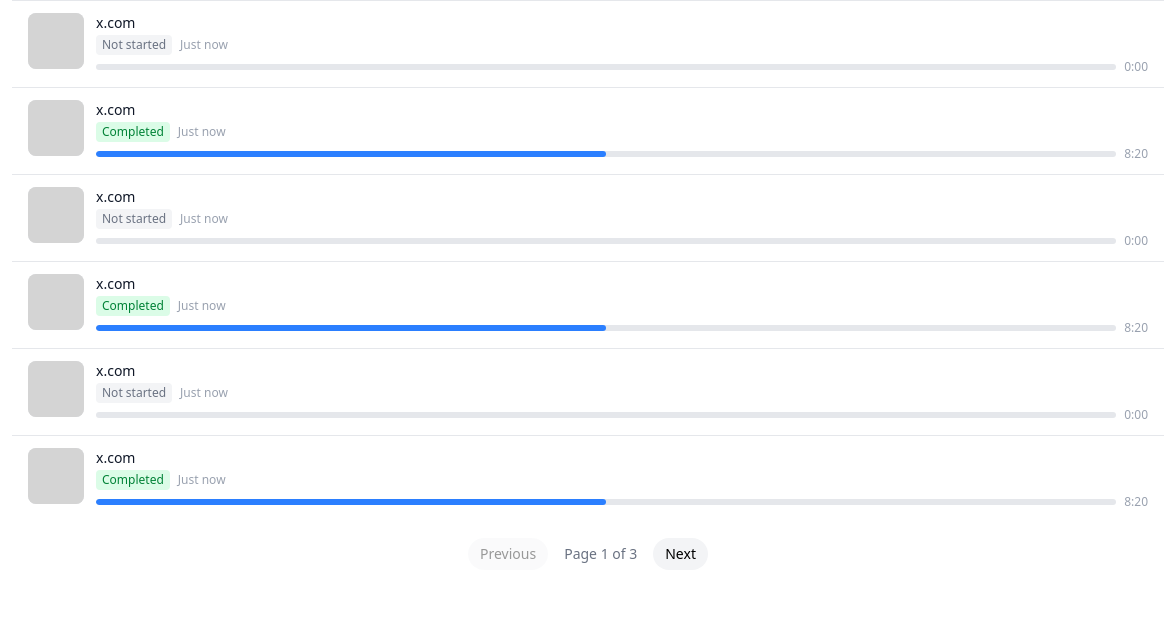
it: ListeningHistory › pagination › resets pagination to page 1 when filters change
(page scrolled)
Note: Navigate to page 2
Click the button "Next": (681, 554) [653, 538, 708, 570]
(page scrolled)
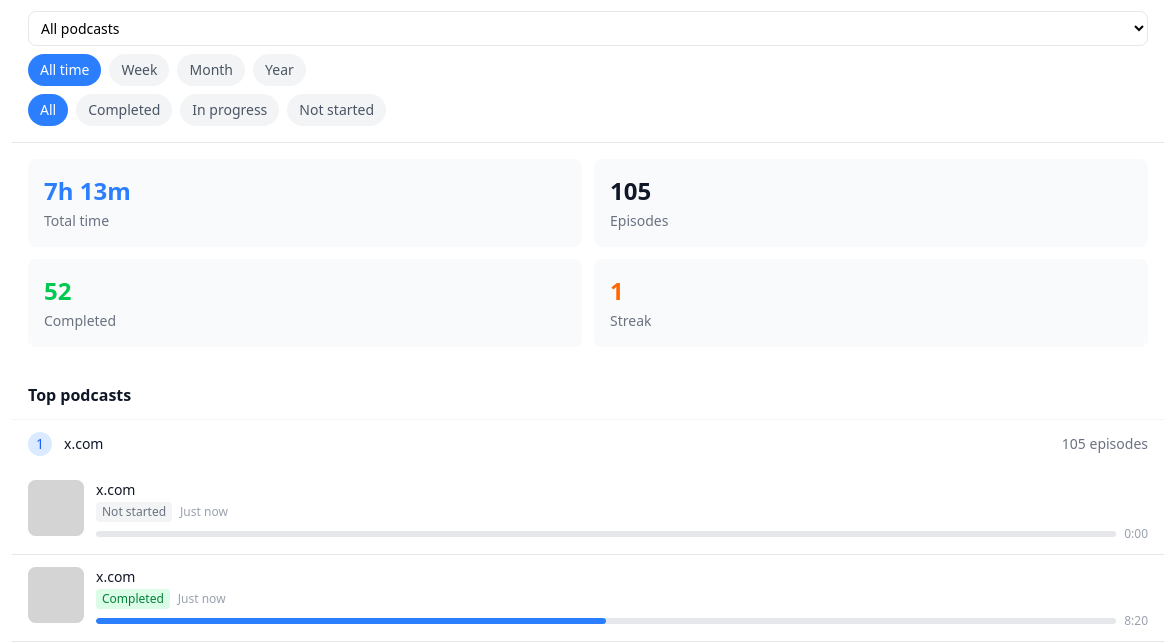
Click the button "Completed": (124, 110) [76, 94, 172, 126]
(page scrolled)
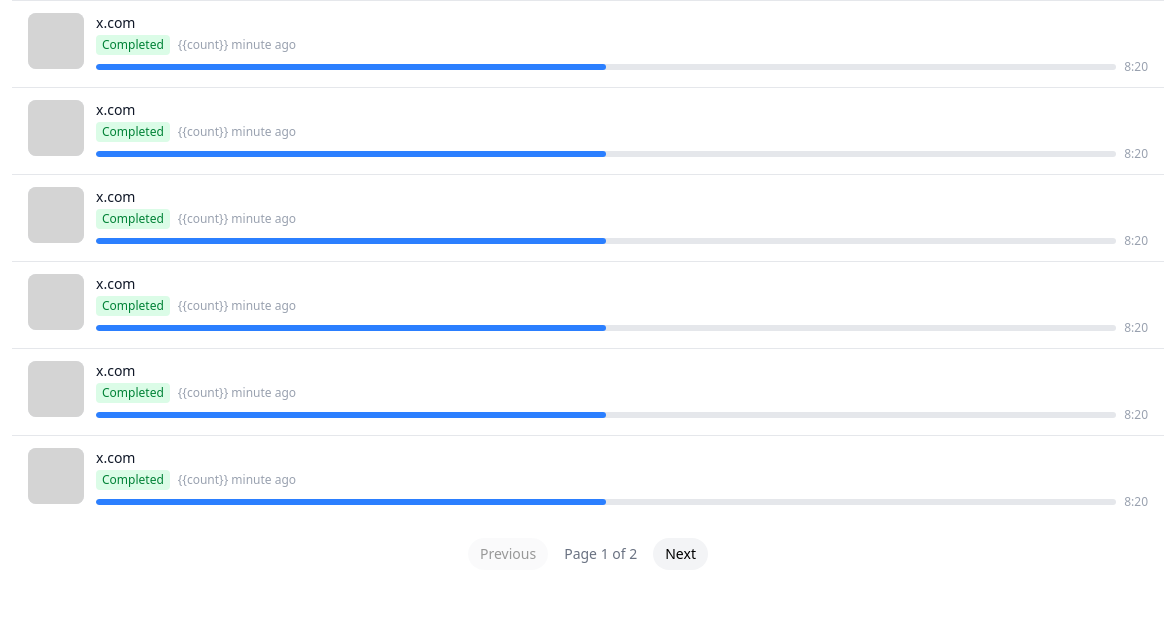
expect the text "Page 1 of 2" is shown: met, box [564, 544, 637, 564]
